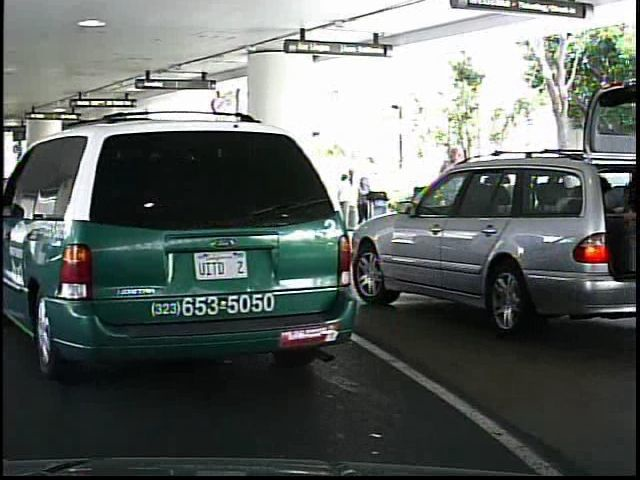person: (429, 141, 473, 263), (352, 171, 382, 241)
